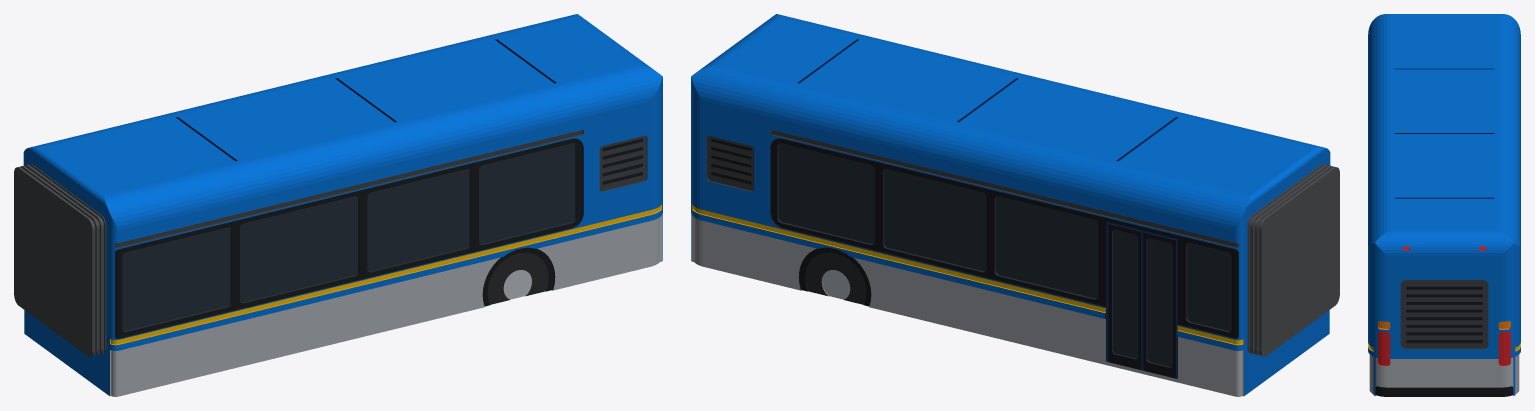
The model's file is bus49_rear.glb.
3 views of the same model, side by side, from view 1: azimuth 30°, elevation 25°; view 2: azimuth 150°, elevation 25°; view 3: azimuth 270°, elevation 25° (orthographic). The views are drawn at different scales.
Parts seen in each view (by area): view 1: translink_bus49_rear; view 2: translink_bus49_rear; view 3: translink_bus49_rear.
Boxes of the visible parts, x1,y1,x2,y2 form: translink_bus49_rear: (14, 14, 662, 396); translink_bus49_rear: (691, 14, 1339, 396); translink_bus49_rear: (1368, 14, 1520, 396).
Bounding box in the file's own units: 144 × 46 × 40.
